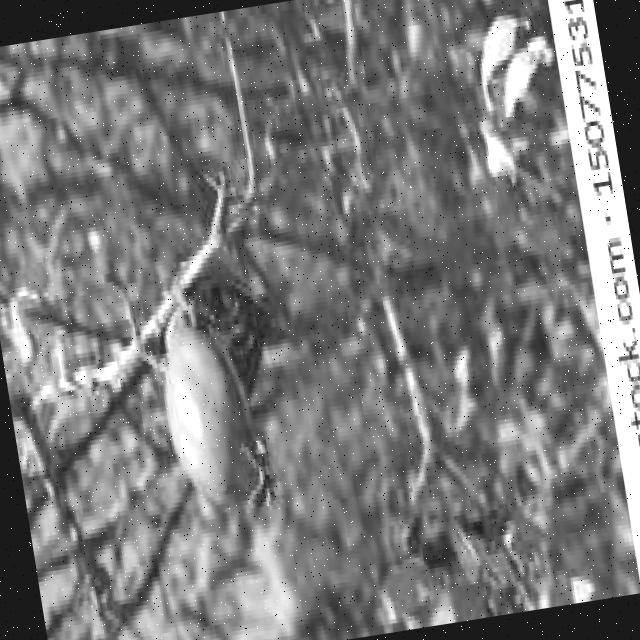overripe: (137, 243, 308, 546)
